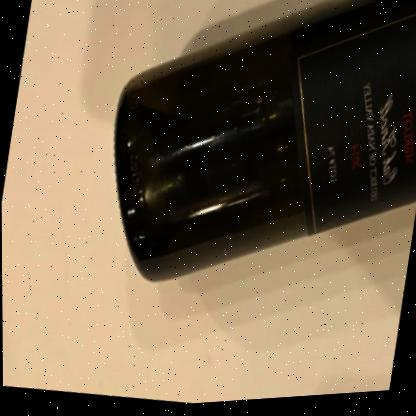Glass: (114, 5, 416, 281)
